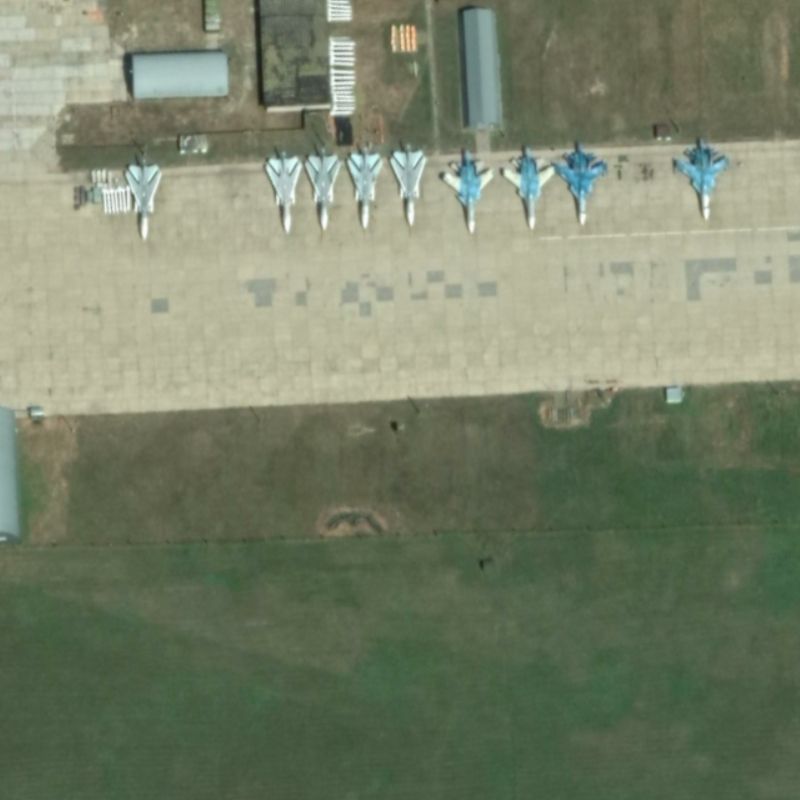A19: (672, 136, 731, 223), (440, 148, 496, 235), (500, 145, 556, 232), (556, 140, 608, 227)
A20: (388, 142, 428, 229), (344, 145, 384, 231), (304, 145, 343, 233), (263, 150, 303, 235), (123, 162, 163, 242)
